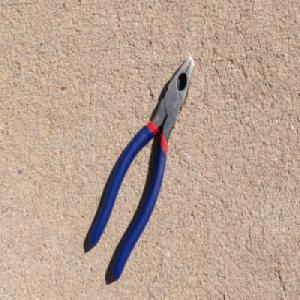Pliers: (87, 53, 195, 281)
